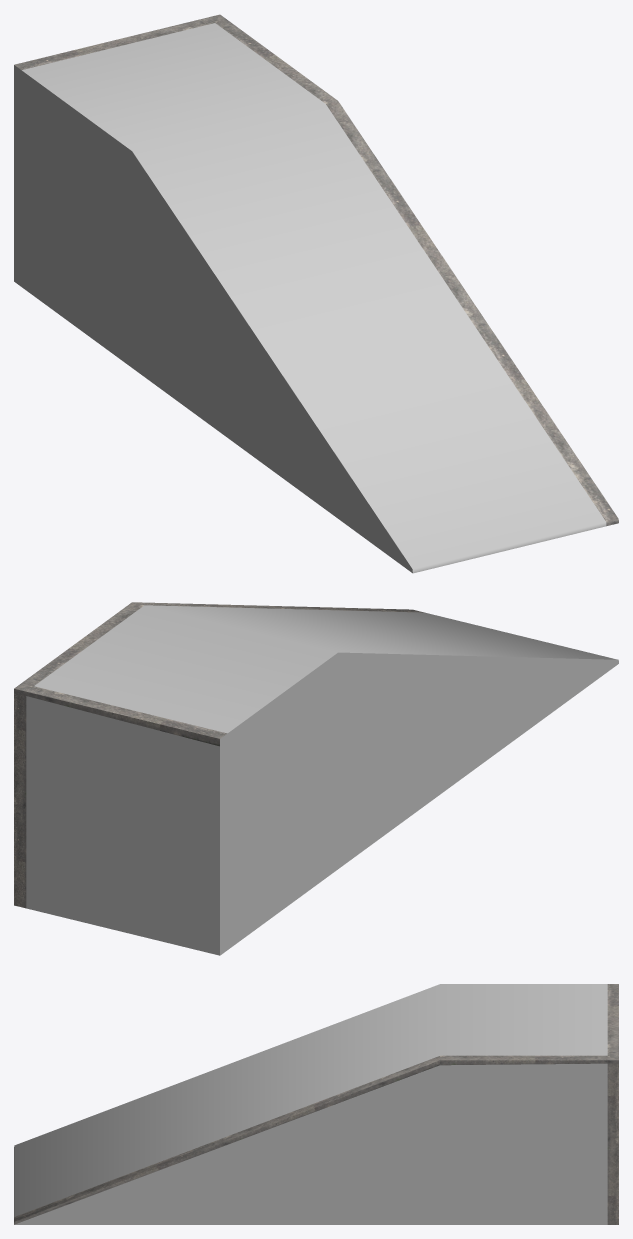
The model's file is JpHouseJ_StoneWall_slope02al.fbx.
3 renders of one model, top to bottom at view 1: azimuth 30°, elevation 25°; view 2: azimuth 150°, elevation 25°; view 3: azimuth 270°, elevation 25°, orthographic. The views are drawn at different scales.
Visible parts, largest first — view 1: JpHouseJ_StoneWall_slope02al; view 2: JpHouseJ_StoneWall_slope02al; view 3: JpHouseJ_StoneWall_slope02al.
Part boxes in pixels (x1,y1,x2,y2): JpHouseJ_StoneWall_slope02al: (14,14,618,573); JpHouseJ_StoneWall_slope02al: (14,602,618,955); JpHouseJ_StoneWall_slope02al: (14,984,618,1224).
Bounding box in the file's own units: 3.83 × 3.85 × 12.85.
